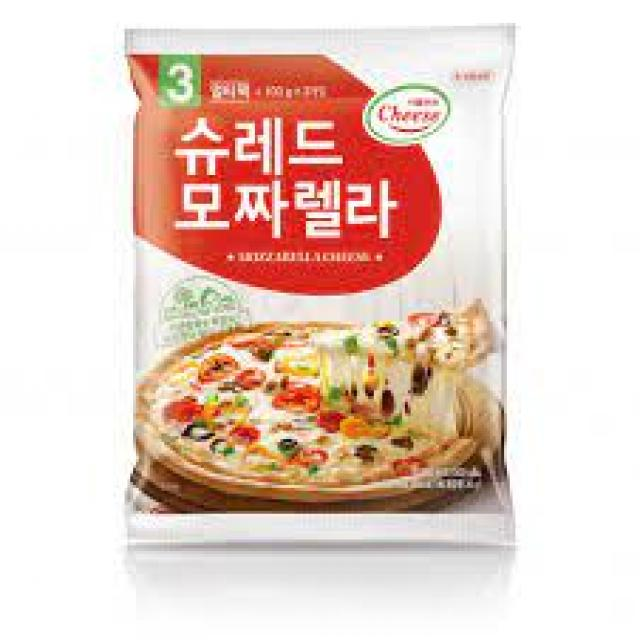Cheese: (126, 23, 510, 540)
